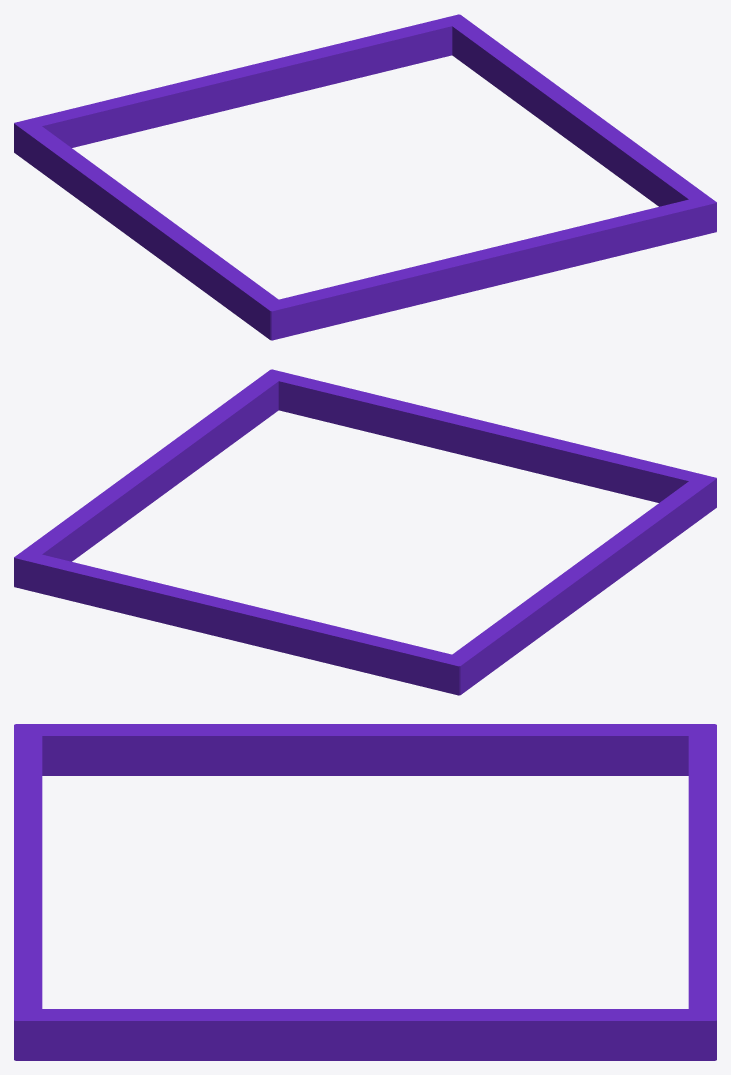
The model's file is frame.obj.
3 renders of one model, top to bottom at view 1: azimuth 30°, elevation 25°; view 2: azimuth 150°, elevation 25°; view 3: azimuth 270°, elevation 25°, orthographic. The views are drawn at different scales.
Visible parts, largest first — view 1: Frame_South, Frame_North, Frame_West, Frame_East; view 2: Frame_North, Frame_South, Frame_West, Frame_East; view 3: Frame_East, Frame_West, Frame_North, Frame_South.
Part boxes in pixels (bbox=[...]): Frame_South: bbox=[262, 195, 716, 340]; Frame_North: bbox=[14, 14, 468, 147]; Frame_West: bbox=[14, 120, 287, 340]; Frame_East: bbox=[443, 14, 716, 231]; Frame_North: bbox=[14, 550, 467, 695]; Frame_South: bbox=[262, 369, 716, 502]; Frame_West: bbox=[443, 475, 716, 695]; Frame_East: bbox=[14, 369, 287, 586]; Frame_East: bbox=[15, 1009, 715, 1060]; Frame_West: bbox=[15, 724, 715, 775]; Frame_North: bbox=[688, 724, 716, 1060]; Frame_South: bbox=[14, 724, 42, 1060].
Size of the model in its own units: 5.44 by 0.34 by 5.44.
